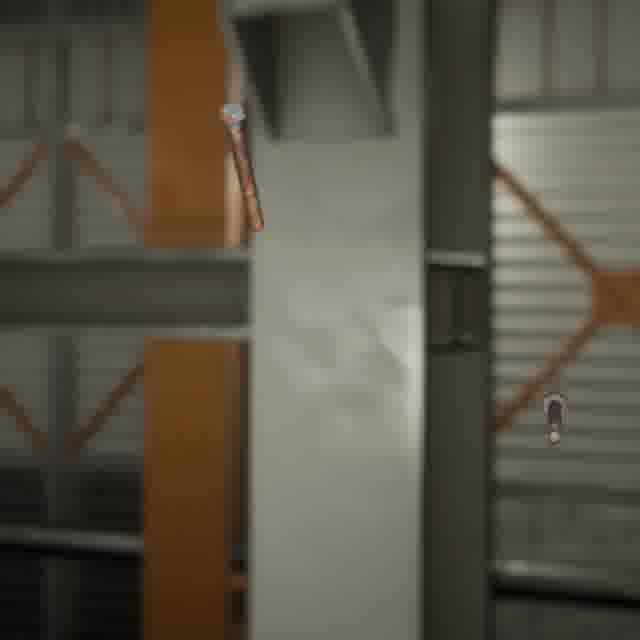bolt: (213, 98, 268, 236), (538, 386, 570, 448)
